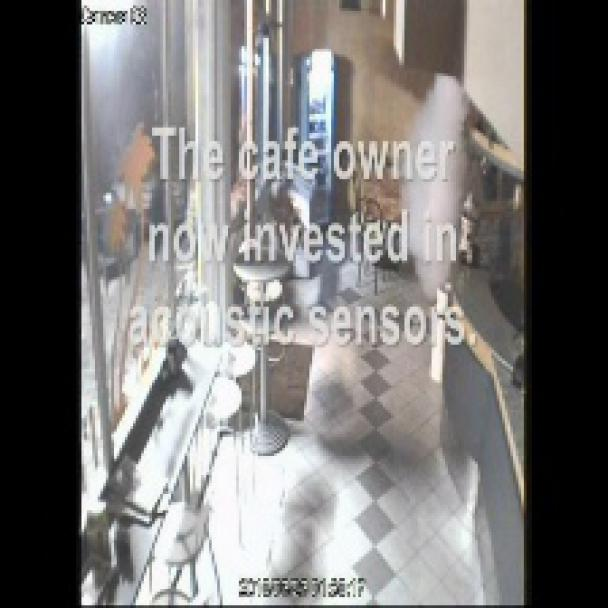smoke: (390, 60, 486, 344)
